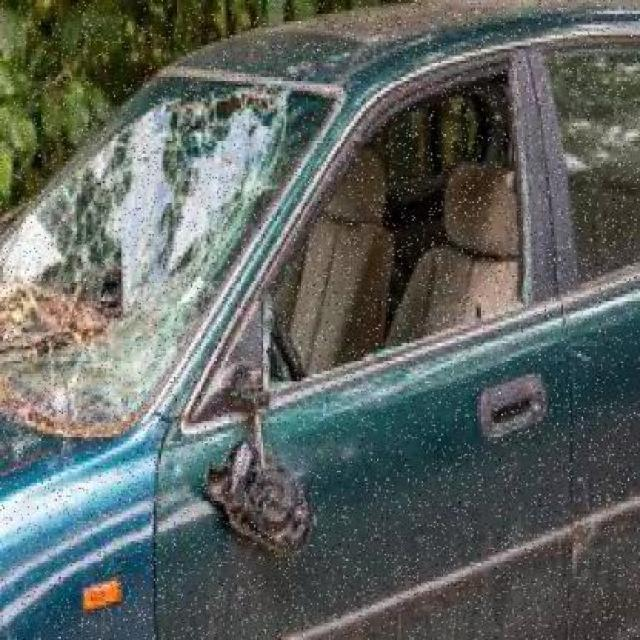Front-Windscreen-Damage: (0, 72, 343, 428)
Sidemirror-Damage: (200, 423, 316, 577)
